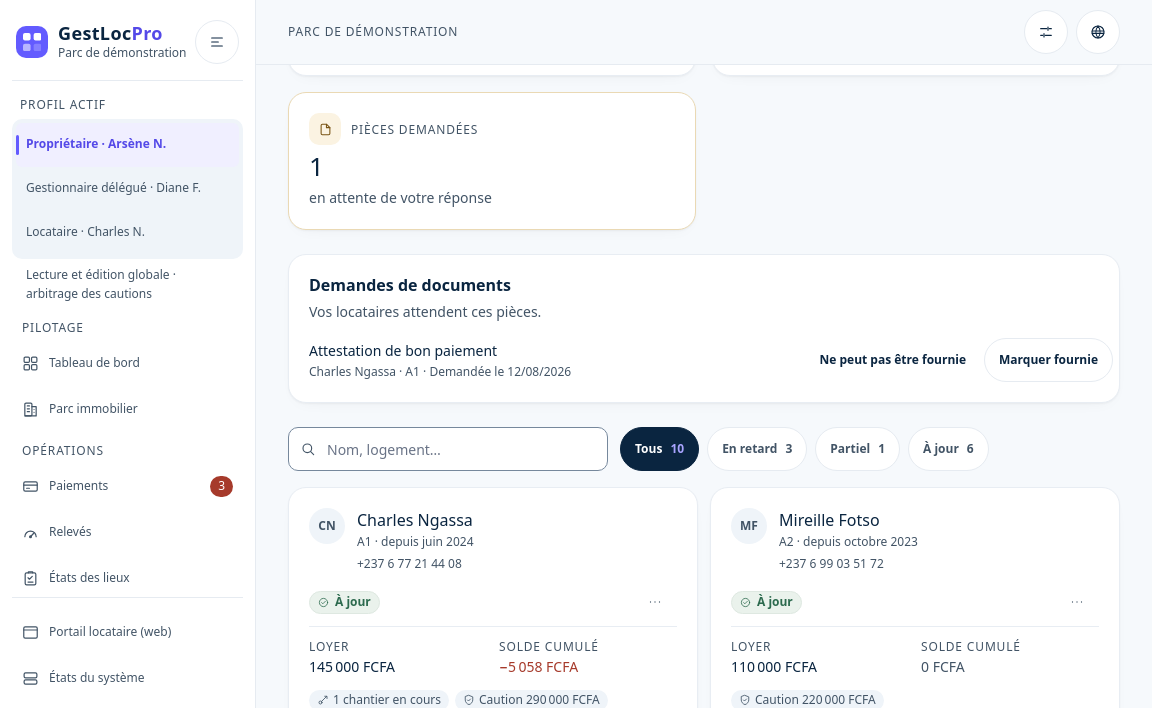
Test: le gestionnaire répond aux demandes › retire la ligne dès qu’il a répondu
(page scrolled)
Step 1. Click the button "Marquer fournie" → (1048, 360), box [984, 338, 1113, 382]
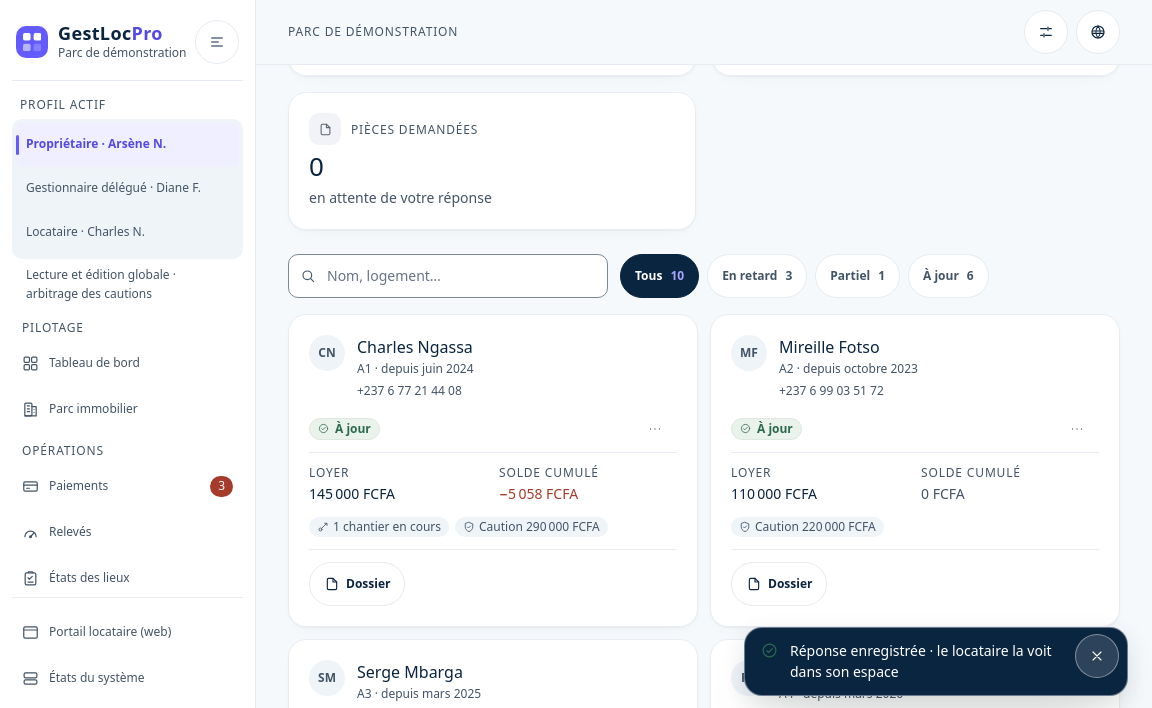
Check: the text "Réponse enregistrée · le locataire la voit dans son espace" is shown, box [790, 640, 1063, 683]
Check: the heading "Demandes de documents" is gone
